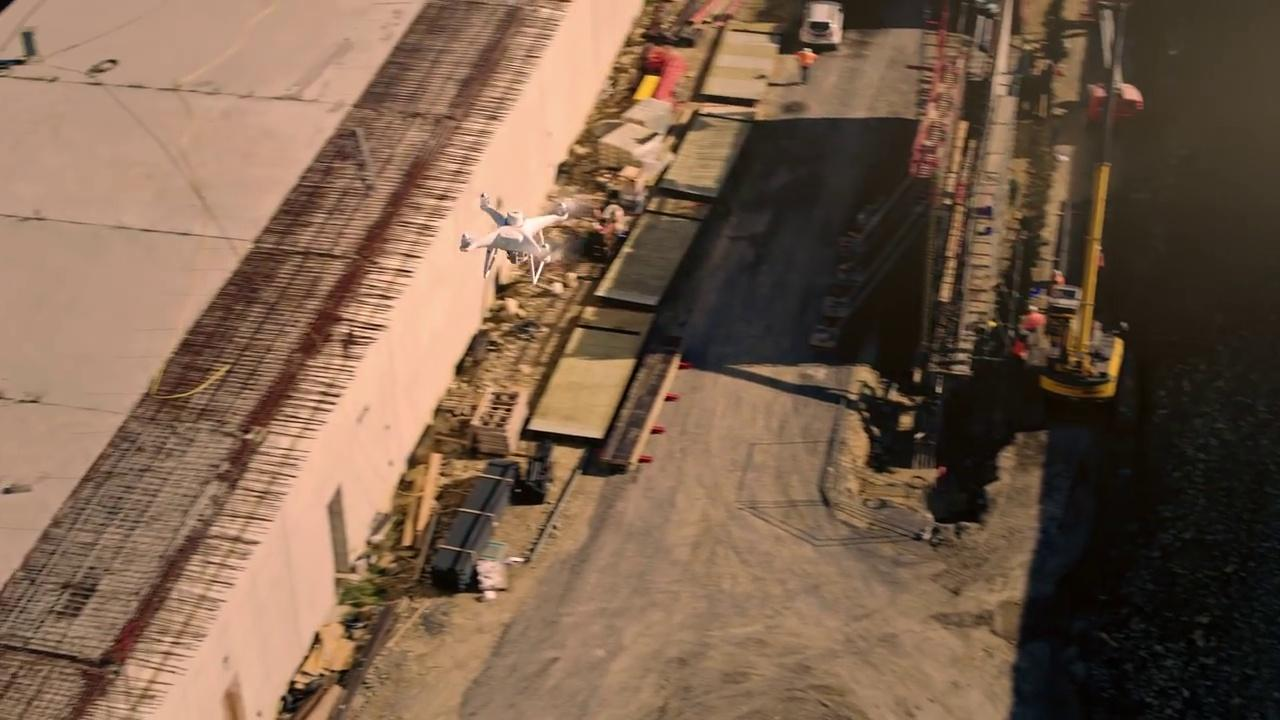drone: (451, 188, 584, 279)
